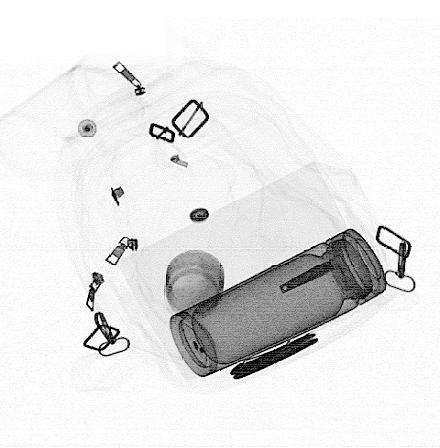Knife: (228, 332, 321, 382)
